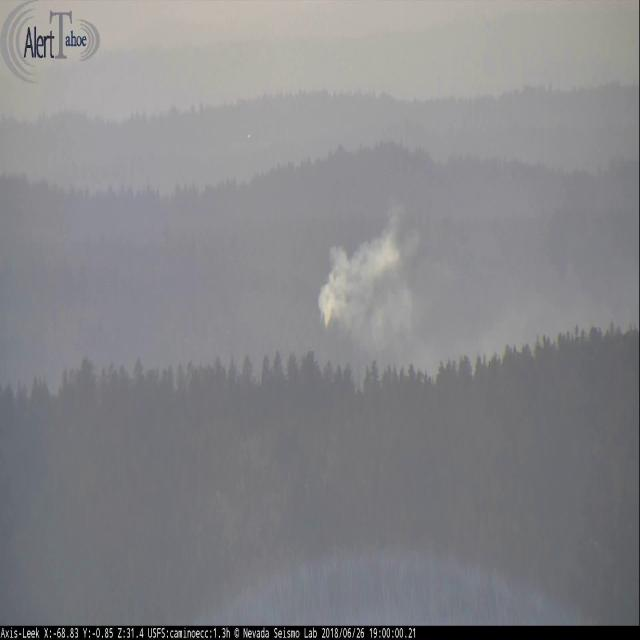smoke: (391, 266, 640, 378), (318, 203, 419, 340)
